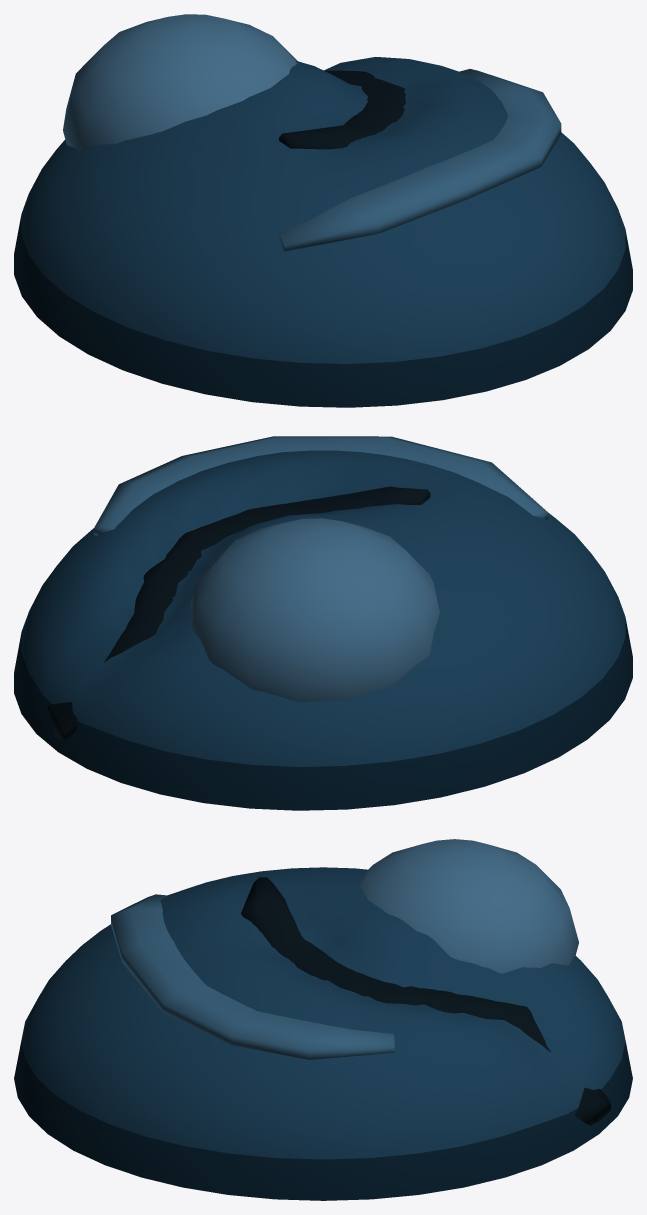
Rendered from newshn-13.glb.
3 renders of one model, top to bottom at view 1: azimuth 30°, elevation 25°; view 2: azimuth 150°, elevation 25°; view 3: azimuth 270°, elevation 25°, orthographic. The views are drawn at different scales.
Parts seen in each view (by area): view 1: newshn-13; view 2: newshn-13; view 3: newshn-13.
Part boxes in pixels (x1=…): newshn-13: x1=14, y1=14, x2=632, y2=407; newshn-13: x1=14, y1=436, x2=632, y2=810; newshn-13: x1=14, y1=839, x2=632, y2=1200.
Size of the model in its own units: 1.43 by 0.5409 by 1.53.
